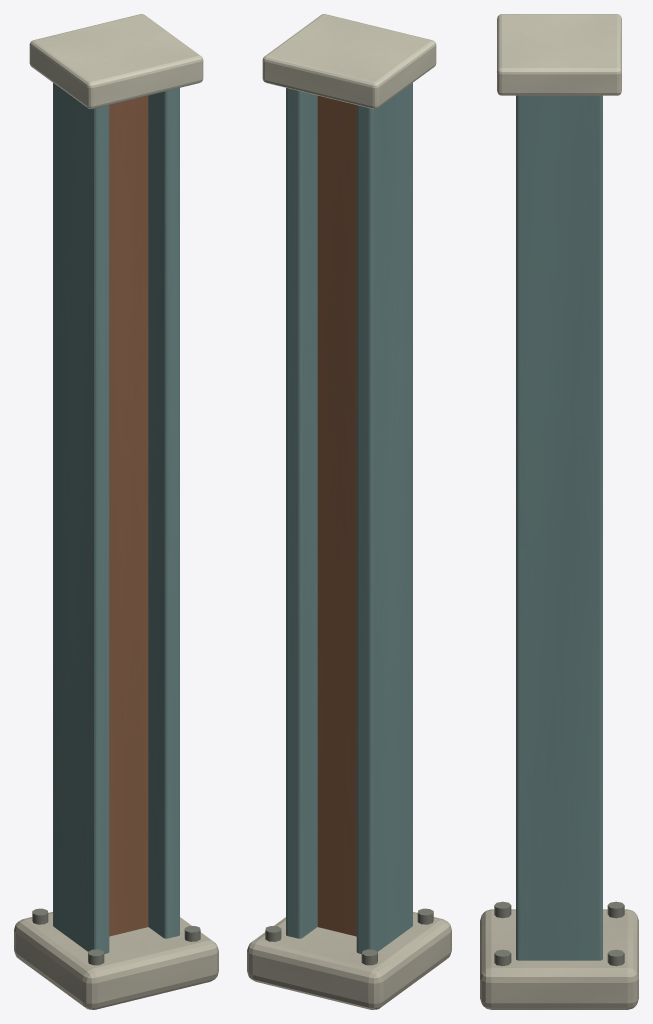
The model's file is Column_Intact.glb.
3 renders of one model, left to right at view 1: azimuth 30°, elevation 25°; view 2: azimuth 150°, elevation 25°; view 3: azimuth 270°, elevation 25°, orthographic.
Parts seen in each view (by area): view 1: Column_Intact; view 2: Column_Intact; view 3: Column_Intact.
Boxes of the visible parts, <box> form: Column_Intact: <box>14,14,218,1009</box>; Column_Intact: <box>247,14,451,1009</box>; Column_Intact: <box>480,14,638,1009</box>.
Size of the model in its own units: 0.84 by 5.48 by 0.84.
5 materials, 4 textured.
